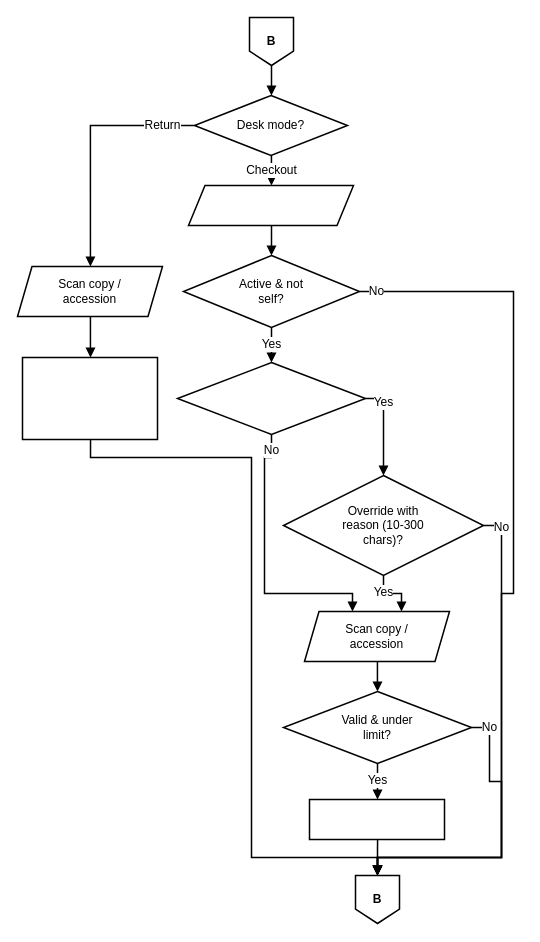
This 540x942 diagram has some shape labels left out. The shapes that lost their labels are listed below. From the top down, each one's centre as x and y in pixels, then its label:
At point (270, 205): "Scan card / ID".
At point (89, 398): "Return copy, settle or record fine & update queue".
At point (271, 398): "Overdue, lost or fines?".
At point (376, 819): "Confirm checkout".
